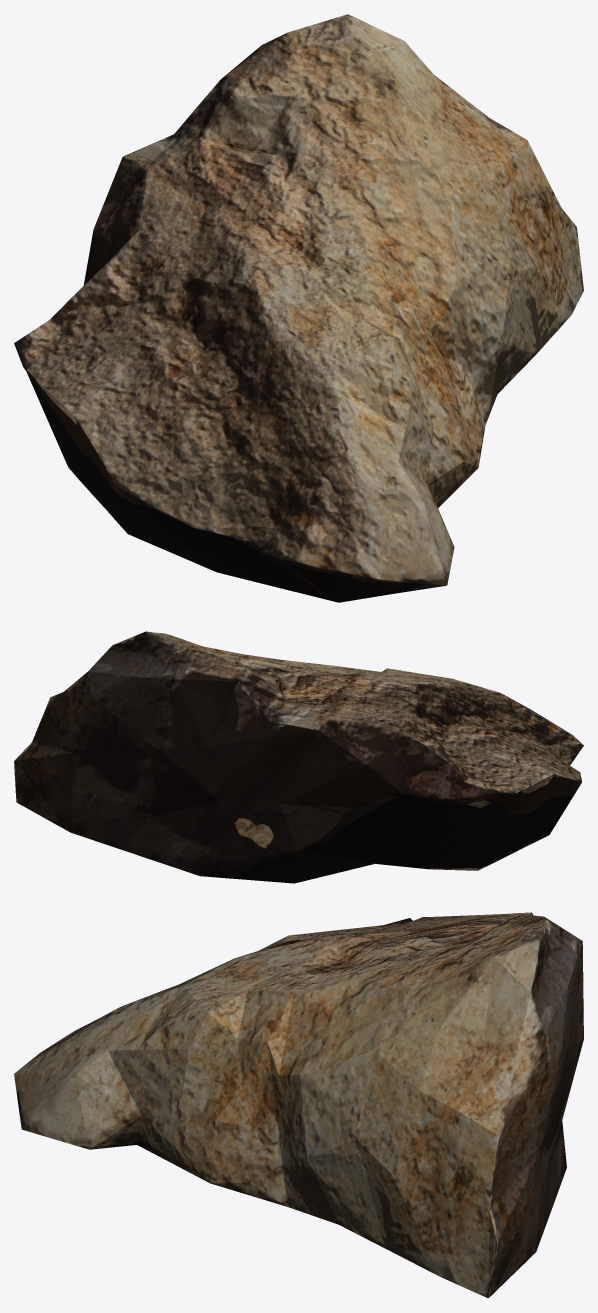
The model's file is Rock.glb.
3 renders of one model, top to bottom at view 1: azimuth 30°, elevation 25°; view 2: azimuth 150°, elevation 25°; view 3: azimuth 270°, elevation 25°, orthographic. The views are drawn at different scales.
Visible parts, largest first — view 1: Mesh_0.001; view 2: Mesh_0.001; view 3: Mesh_0.001.
Part boxes in pixels (left/top/right/bottom): Mesh_0.001: left=14, top=14, right=583, bottom=602; Mesh_0.001: left=14, top=631, right=583, bottom=883; Mesh_0.001: left=14, top=912, right=583, bottom=1298.
Size of the model in its own units: 0.7127 by 0.3439 by 0.6399.
Materials: 1 (1 with a texture image).
